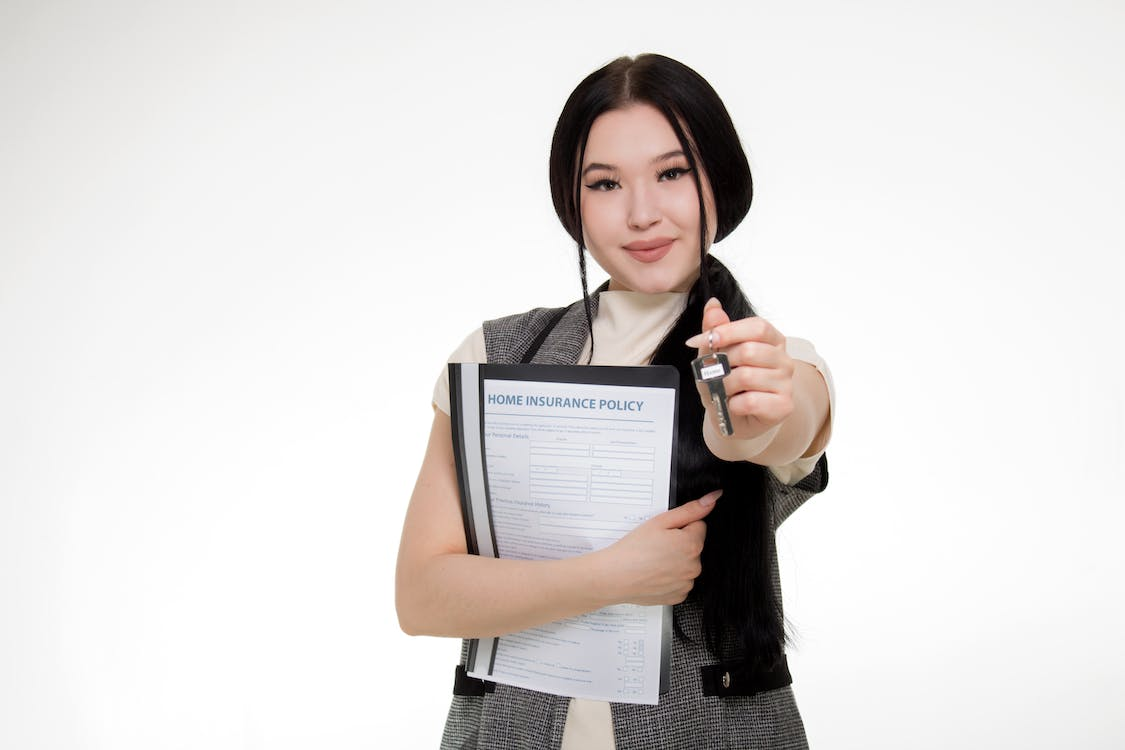key: (689, 352, 745, 438)
